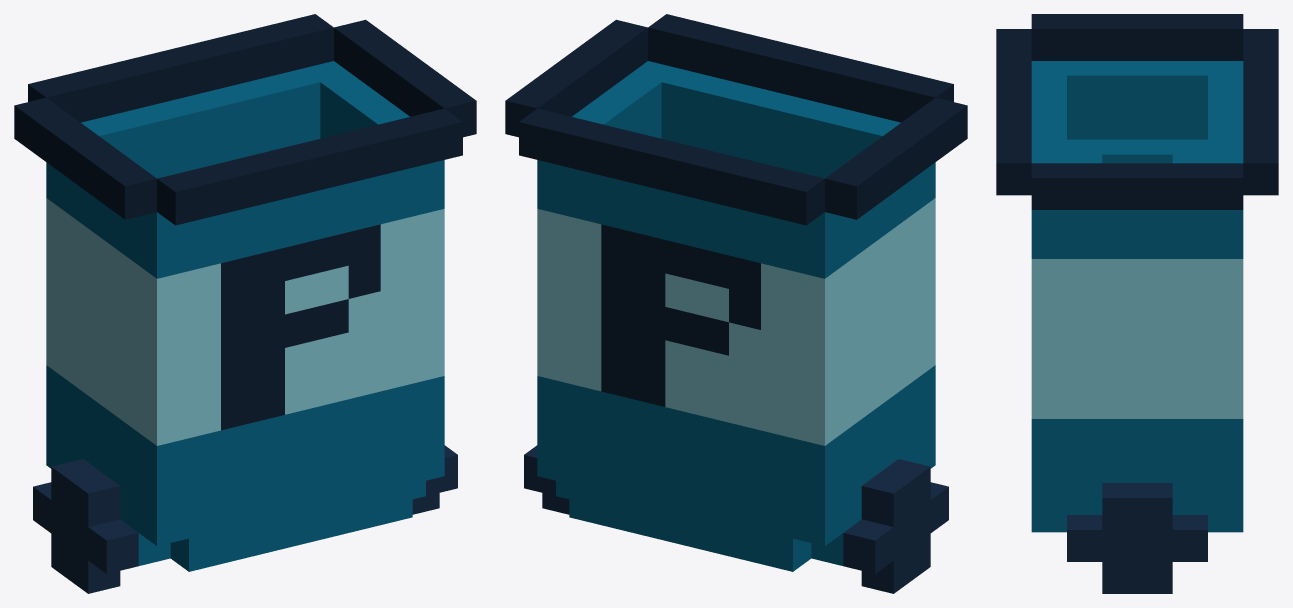
The model's file is conplas.gltf.
3 renders of one model, left to right at view 1: azimuth 30°, elevation 25°; view 2: azimuth 150°, elevation 25°; view 3: azimuth 270°, elevation 25°, orthographic. The views are drawn at different scales.
Visible parts, largest first — view 1: Object_0; view 2: Object_0; view 3: Object_0.
Boxes of the visible parts, x1=… form: Object_0: x1=14, y1=14, x2=476, y2=593; Object_0: x1=505, y1=14, x2=967, y2=593; Object_0: x1=996, y1=14, x2=1278, y2=593.
Size of the model in its own units: 1.1 by 1.3 by 0.8.
Materials: 1 (1 with a texture image).
